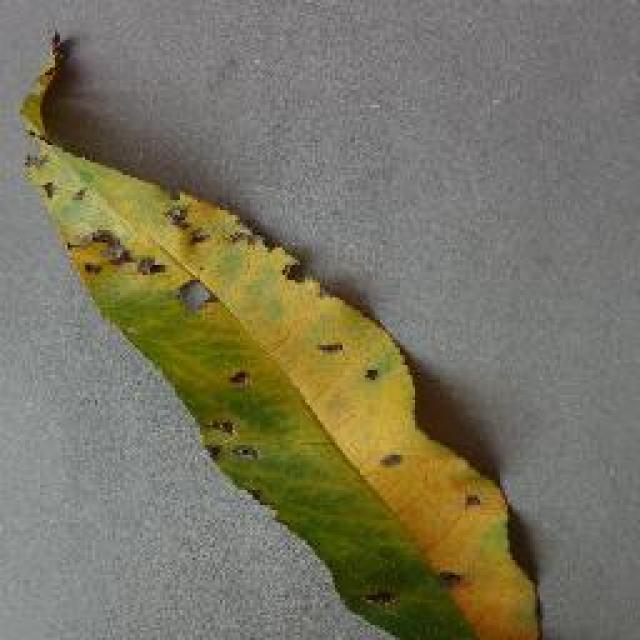Peach_Bacterial_Spot: (71, 133, 466, 595)
